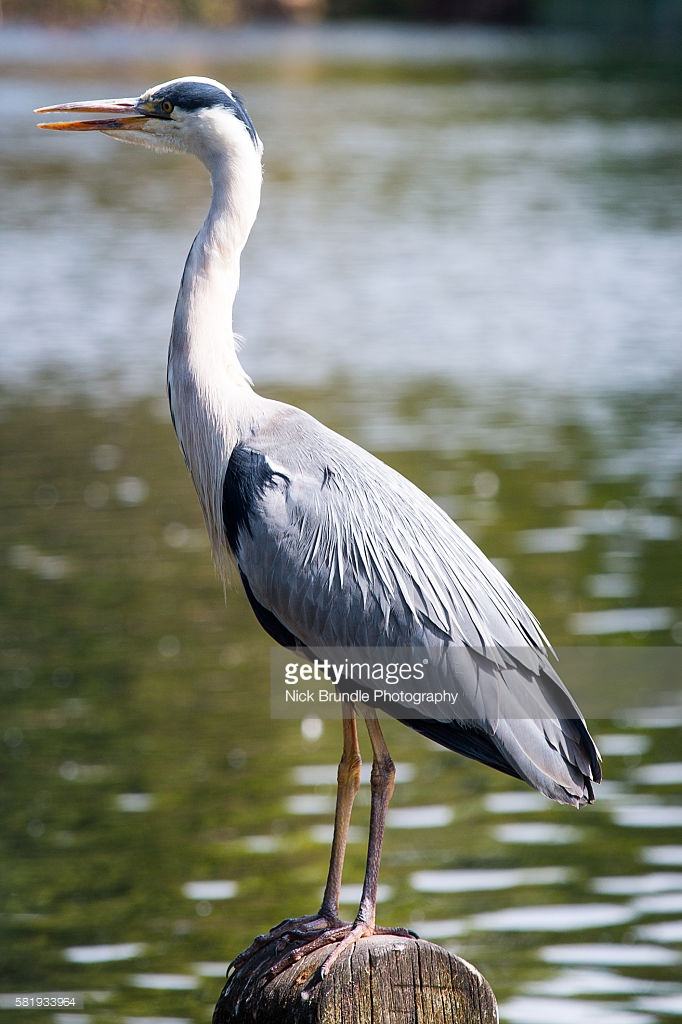heron: (32, 75, 609, 982)
